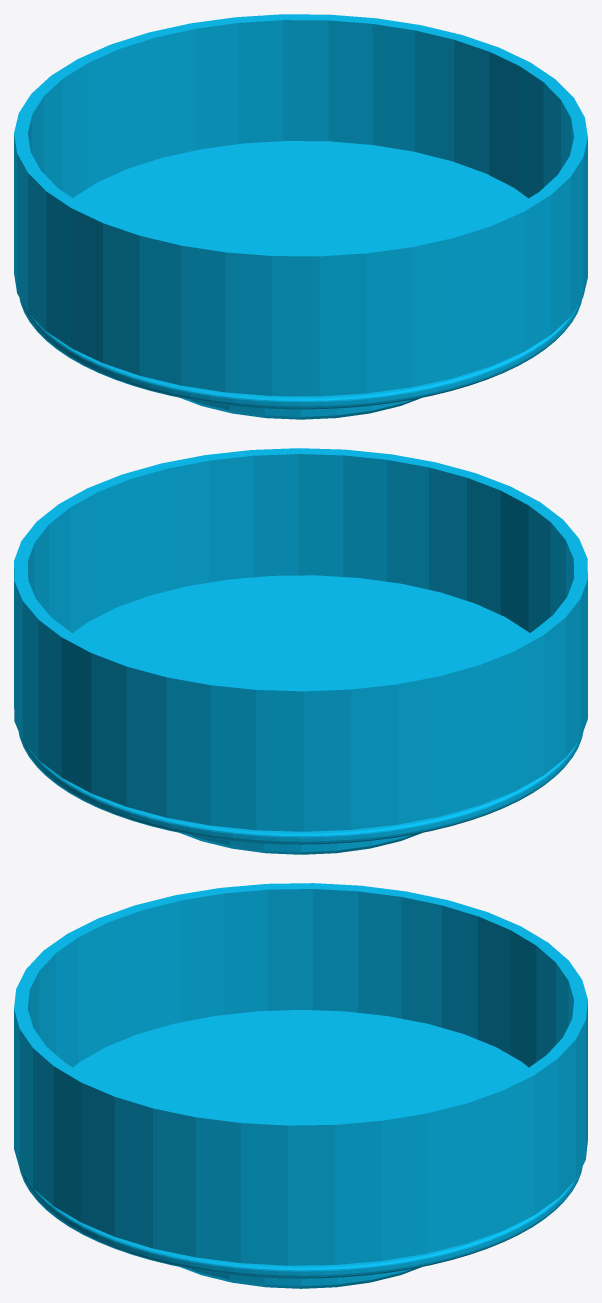
Rendered from FetchLink7.dae.
The picture shows the model from 3 angles, top to bottom: view 1: azimuth 30°, elevation 25°; view 2: azimuth 150°, elevation 25°; view 3: azimuth 270°, elevation 25°; orthographic projection.
Parts seen in each view (by area): view 1: FetchLink7; view 2: FetchLink7; view 3: FetchLink7.
Part boxes in pixels (x1,y1,x2,y2): FetchLink7: (14,14,587,419); FetchLink7: (14,448,587,854); FetchLink7: (14,883,587,1288).
Size of the model in its own units: 0.1039 by 0.1039 by 0.0425.
